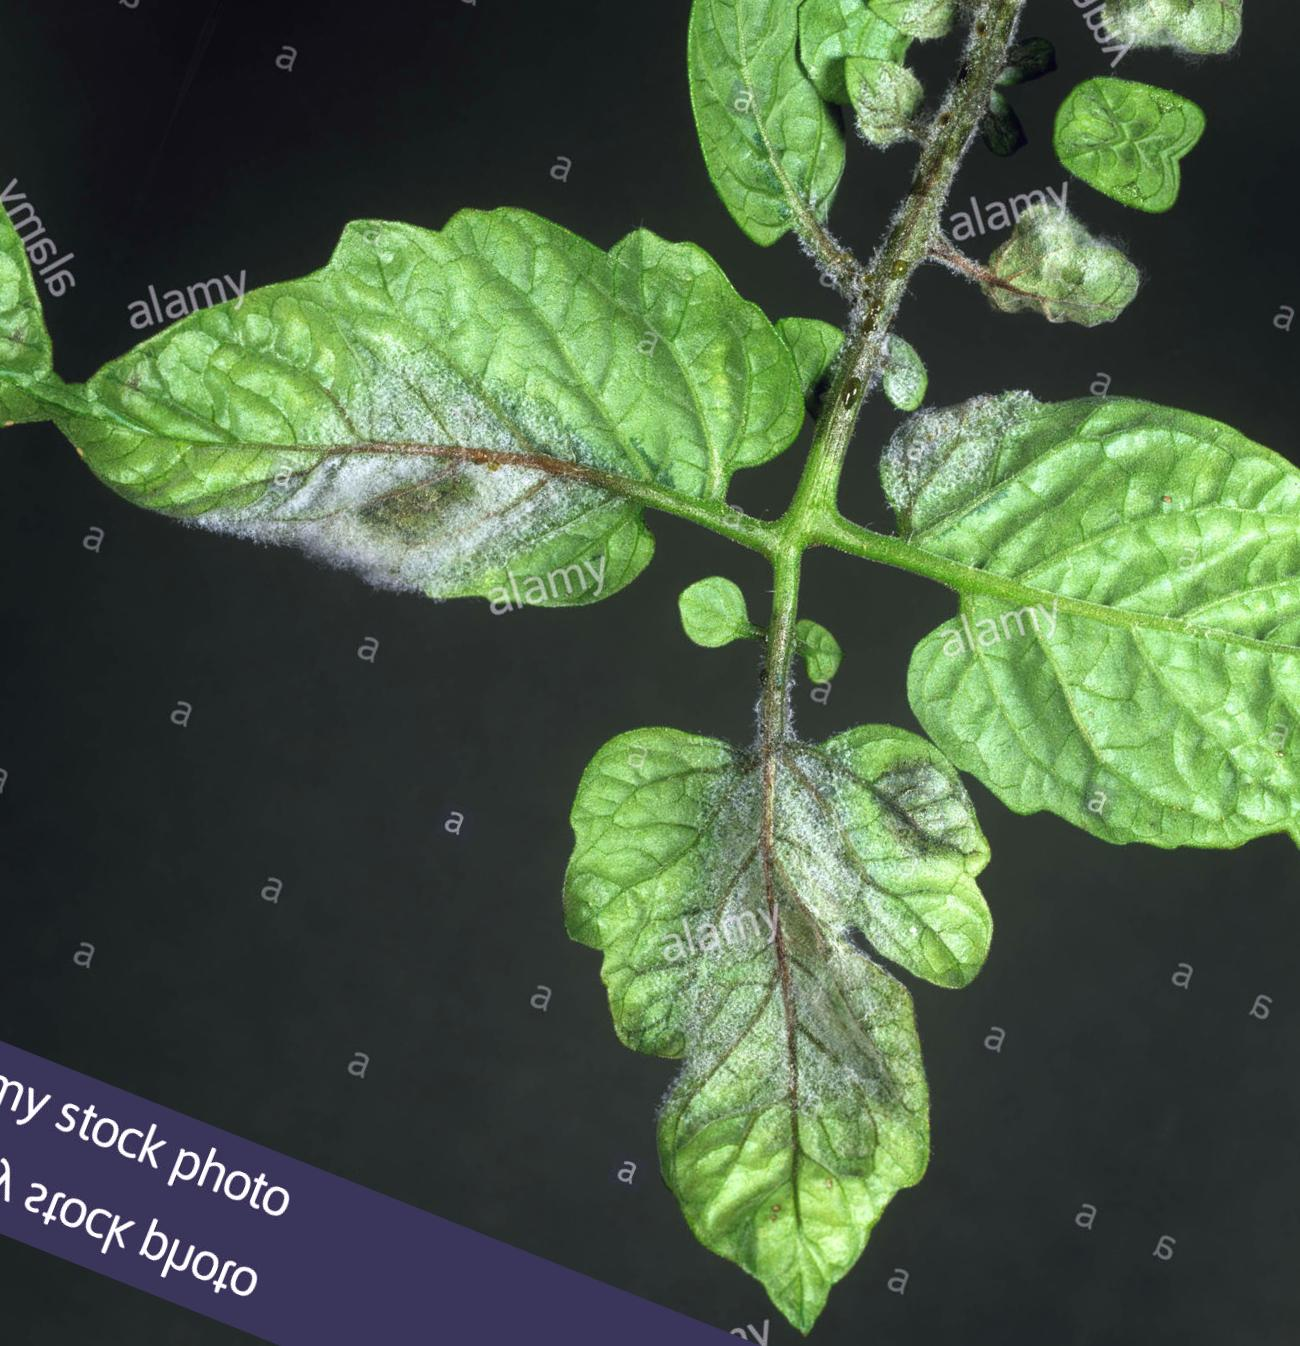Tomato leaf late blight: (53, 35, 893, 746), (416, 630, 1085, 1346), (756, 287, 1300, 928)
